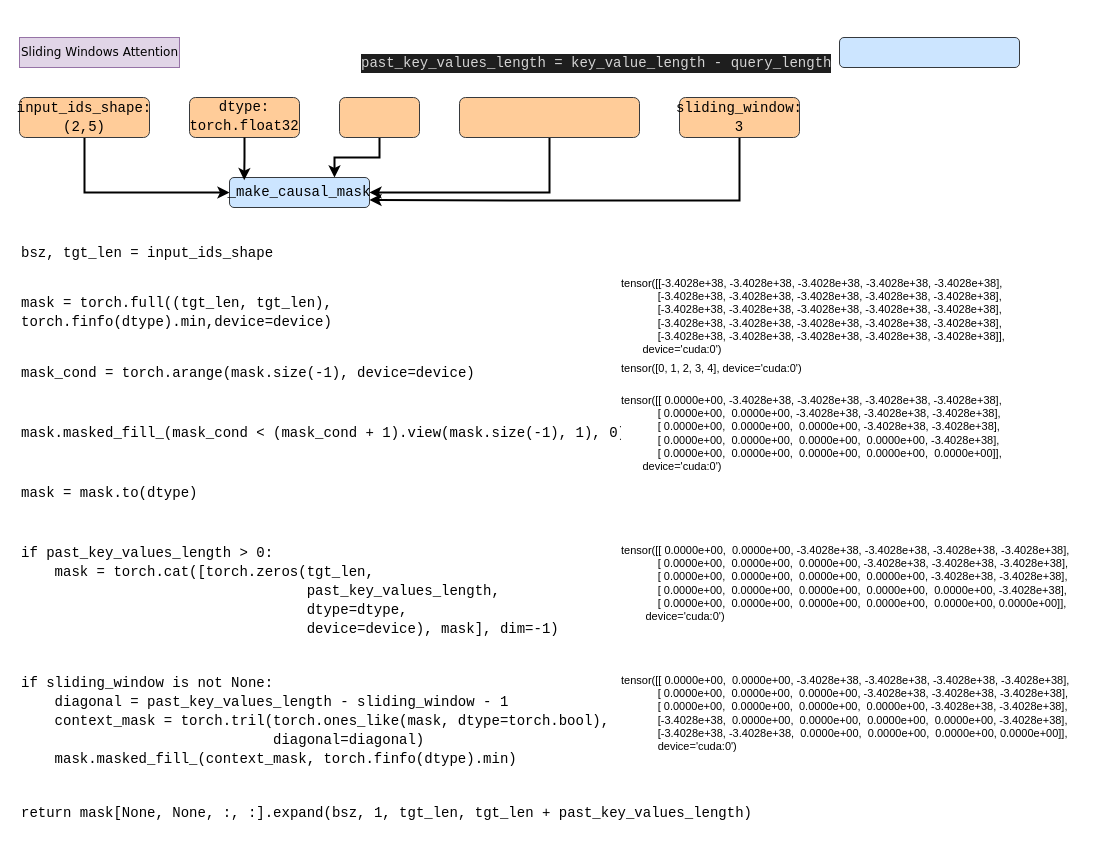
Image size: 1096x854. Some labels were removed from this diagram. The shapes that lost their labels are listed below. From the top down, each one's centre as x and y in pixels, then its label:
(929,52): AttentionMaskConverter
(379,117): device: 0
(549,117): past_key_values_length: 1
